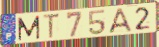2: (134, 6, 152, 32)
5: (88, 9, 107, 36)
7: (66, 11, 83, 38)
A: (108, 7, 133, 35)
M: (17, 15, 41, 42)
T: (42, 12, 61, 40)
